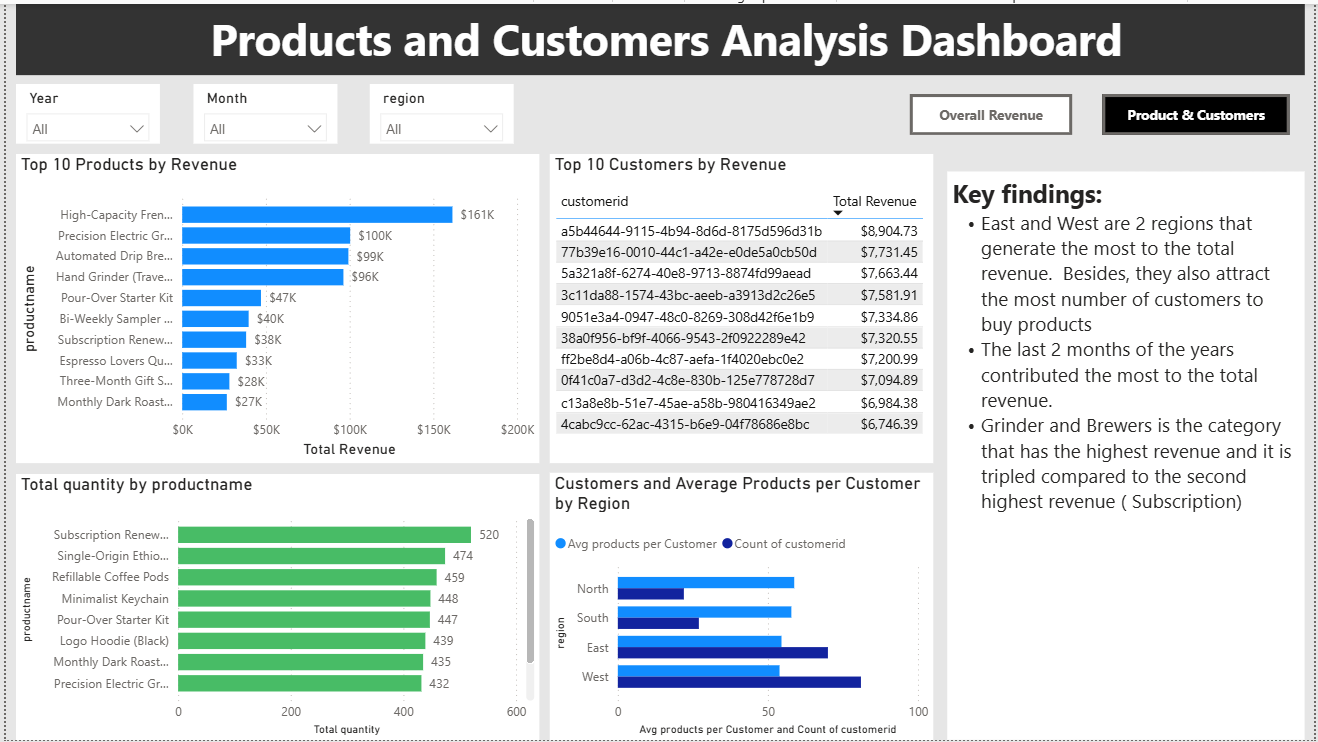

What the dashboard file says about the page in this screenshot:
{"tool":"powerbi","page":{"name":"Product & Customers","canvas":[1280,720],"ordinal":1},"visuals":[{"type":"textbox","box":[9.8,0,1260.7,69.7],"z":0},{"type":"slicer","fields":{"Values":["Calendar.Year"]},"box":[9.8,78.3,140.6,58.7],"z":1000},{"type":"slicer","fields":{"Values":["Calendar.Month"]},"box":[182.8,78.3,140.6,58.7],"z":2000},{"type":"clusteredBarChart","title":"Top 10 Products by Revenue","fields":{"Category":["vw_full_orders.productname"],"Y":["vw_full_orders.Total Revenue"]},"box":[9.8,146.7,512.4,302],"z":3000},{"type":"tableEx","title":"Top 10 Customers by Revenue","fields":{"Values":["vw_full_orders.customerid","vw_full_orders.Total Revenue"]},"box":[531.9,146.7,375.4,302],"z":4000},{"type":"lineClusteredColumnComboChart","title":"Customers and Average Products per Customer by Region","fields":{"Category":["vw_full_orders.region"],"Y":["Count(vw_full_orders.customerid)"],"Y2":["vw_full_orders.Avg products per Customer"]},"box":[531.9,458.6,375.4,261.7],"z":5000},{"type":"textbox","box":[920.8,146.7,349.7,573.5],"z":6000},{"type":"slicer","fields":{"Values":["vw_full_orders.region"]},"box":[355.8,78.3,140.6,58.7],"z":7000},{"type":"actionButton","title":"Overall Revenue","box":[884.1,88,159,40.4],"z":8000},{"type":"actionButton","title":"Product & Customers","box":[1072.4,88,183.4,40.4],"z":9000},{"type":"clusteredBarChart","title":"Top 10 number of products by productname","fields":{"Category":["vw_full_orders.productname"],"Y":["Sum(vw_full_orders.quantity)"]},"box":[9.8,459.8,512.4,260.5],"z":9001}]}

Visuals, with their boxes in screenshot pixels (x1, y1, x2, y2), scaled from the page's 1280x720 canvas onto the 1318x742 screenshot:
textbox: detection(10, 0, 1308, 72)
slicer - Calendar.Year: detection(10, 81, 155, 141)
slicer - Calendar.Month: detection(188, 81, 333, 141)
"Top 10 Products by Revenue" clusteredBarChart: detection(10, 151, 538, 462)
"Top 10 Customers by Revenue" tableEx: detection(548, 151, 934, 462)
"Customers and Average Products per Customer by Region" lineClusteredColumnComboChart: detection(548, 473, 934, 741)
textbox: detection(948, 151, 1308, 741)
slicer - vw_full_orders.region: detection(366, 81, 511, 141)
"Overall Revenue" actionButton: detection(910, 91, 1074, 132)
"Product & Customers" actionButton: detection(1104, 91, 1293, 132)
"Top 10 number of products by productname" clusteredBarChart: detection(10, 474, 538, 741)
